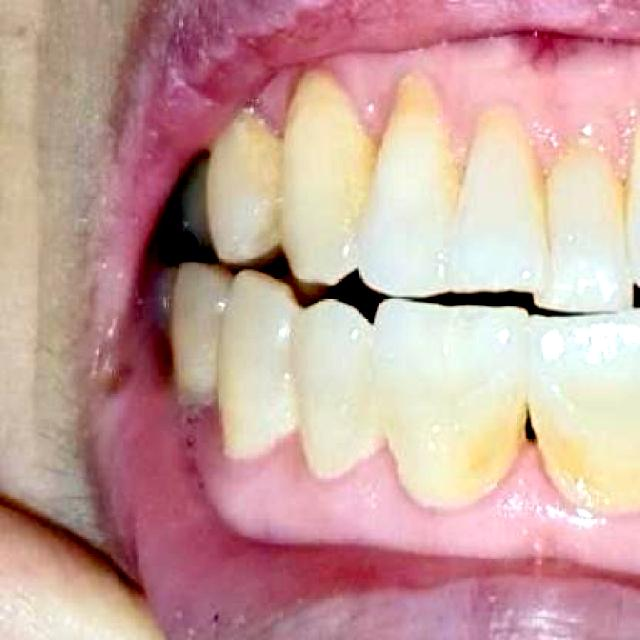Plaque: (197, 407, 638, 560), (256, 48, 633, 173)
